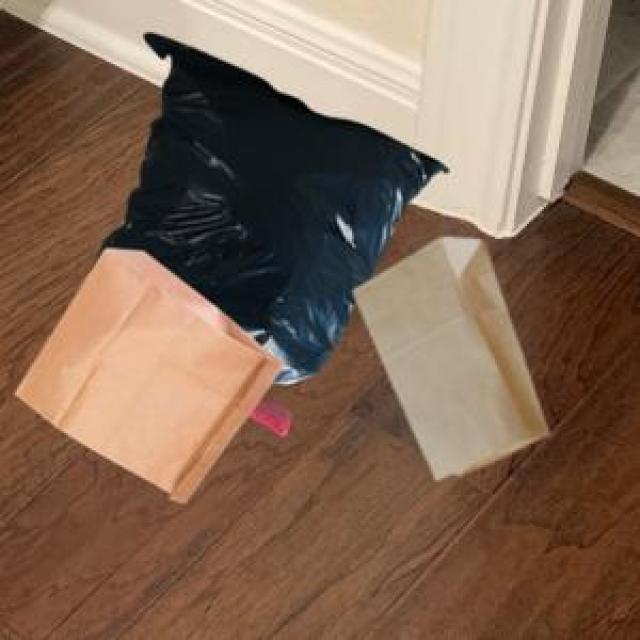miscellaneous trash: (94, 30, 444, 431)
paper: (13, 245, 280, 497), (350, 235, 544, 476)
